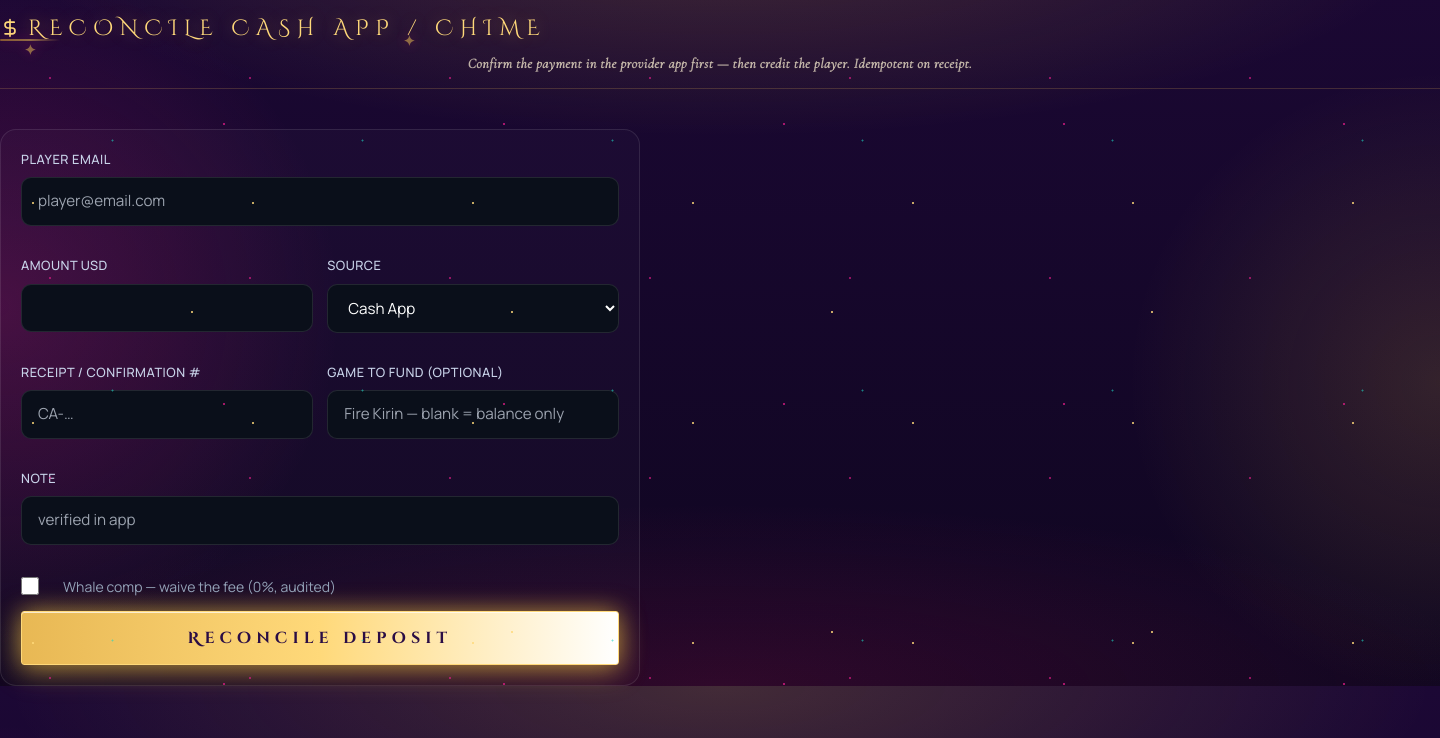
Test: AdminDailyOps › reconciles a Cash App deposit and shows the split
The image size is (1440, 738).
Type "p@x.com" into the field with test id "reconcile-email" at (320, 202), box [21,177,619,226]
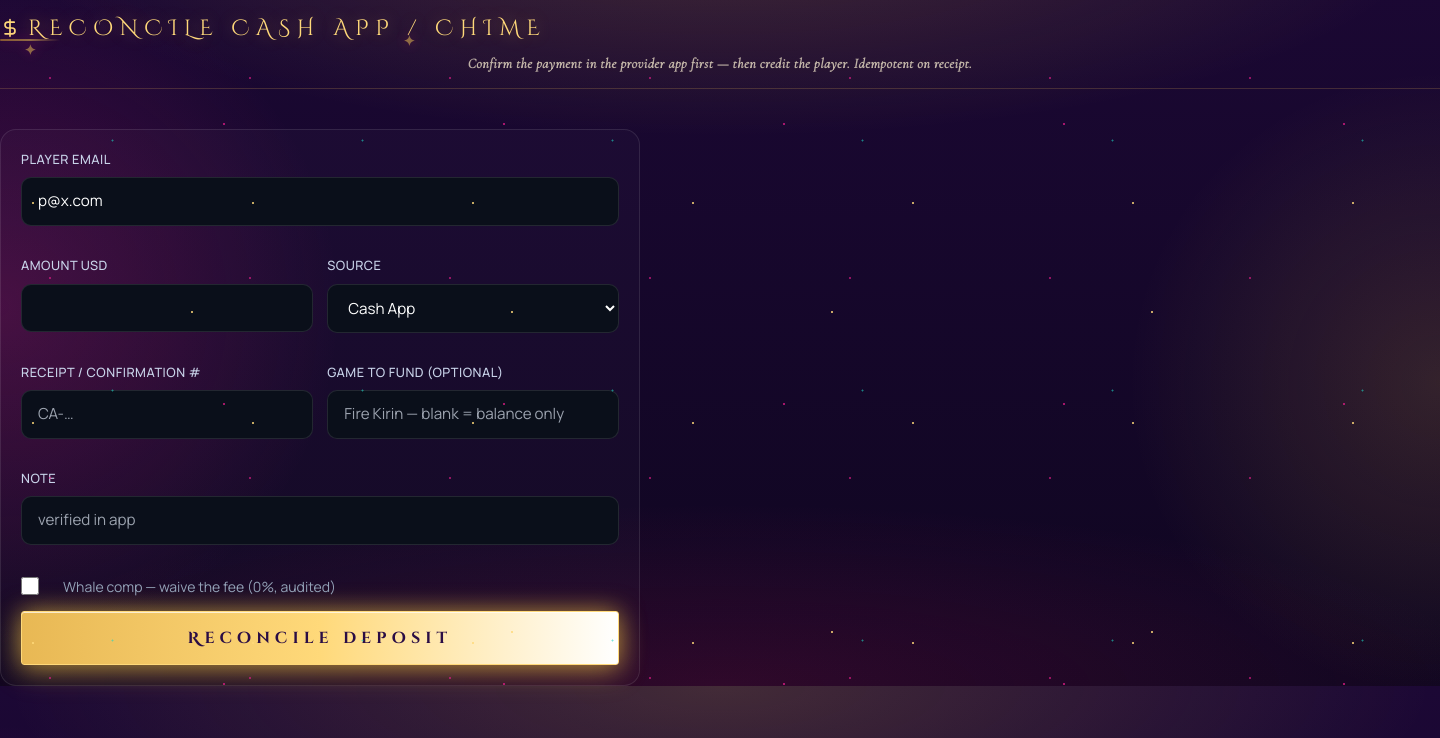
Type "25" into the number field with test id "reconcile-amount" at (167, 308), box [21,284,313,332]
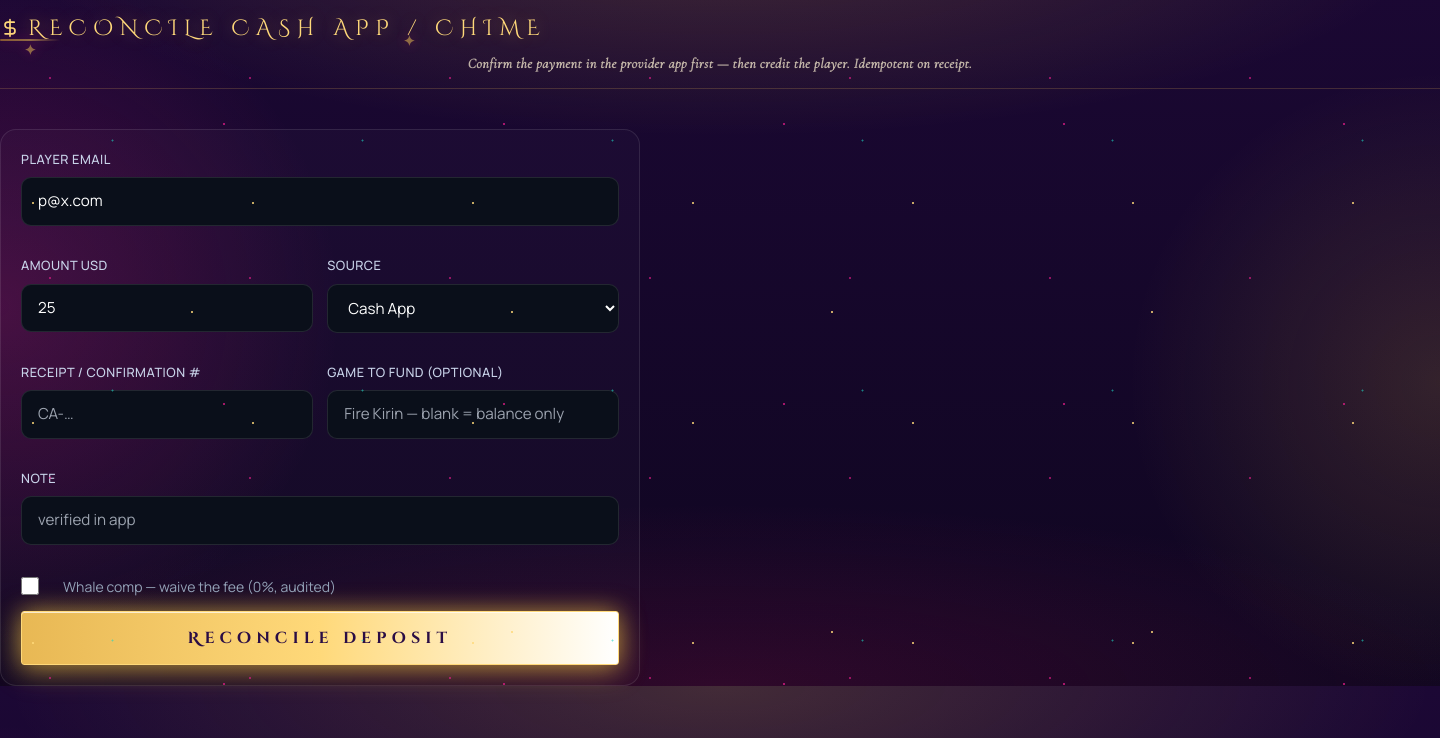
Type "CA-9" into the field with test id "reconcile-receipt" at (167, 414), box [21,390,313,439]
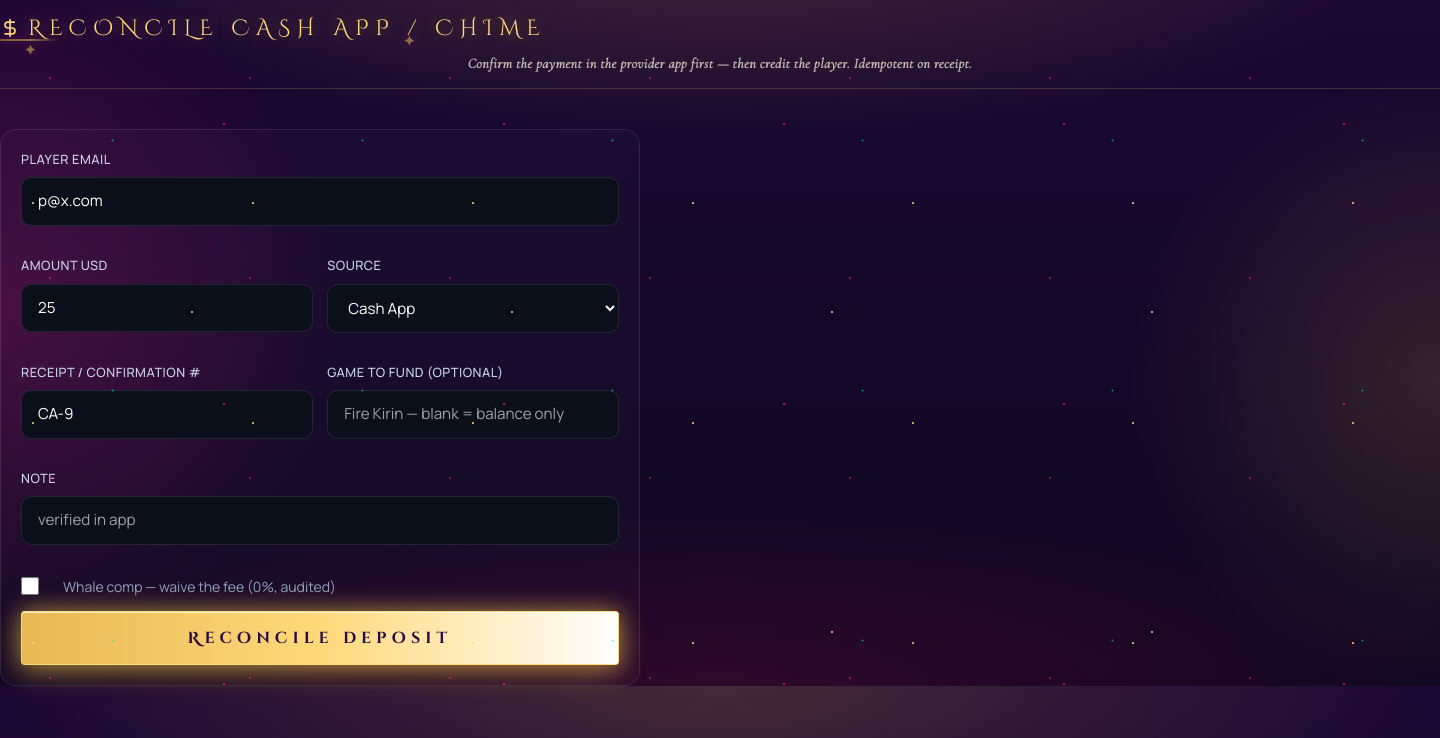
Click the button with test id "reconcile-submit" at (320, 638), box [21,611,619,665]
(page scrolled)
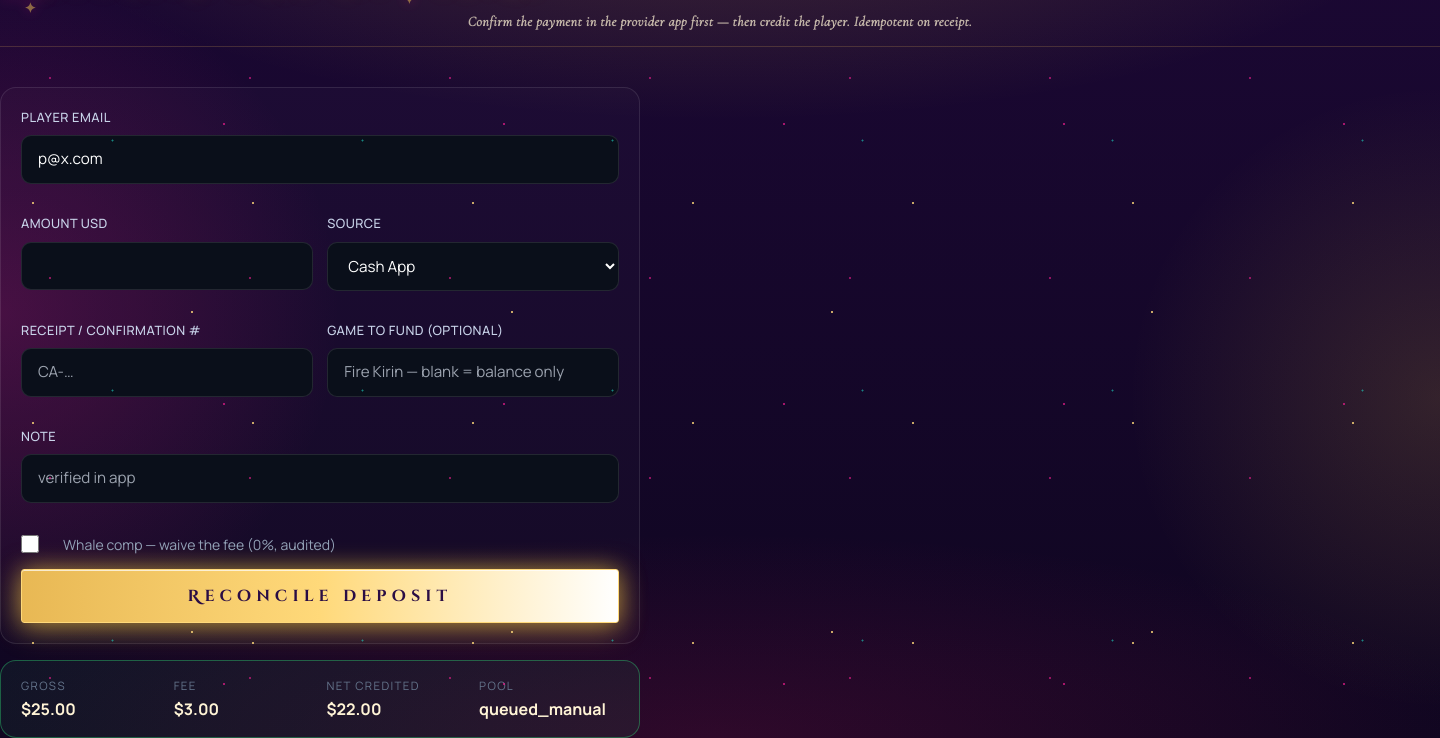
Now the element with test id "reconcile-result" shows "$22.00", box [0,660,640,737]
